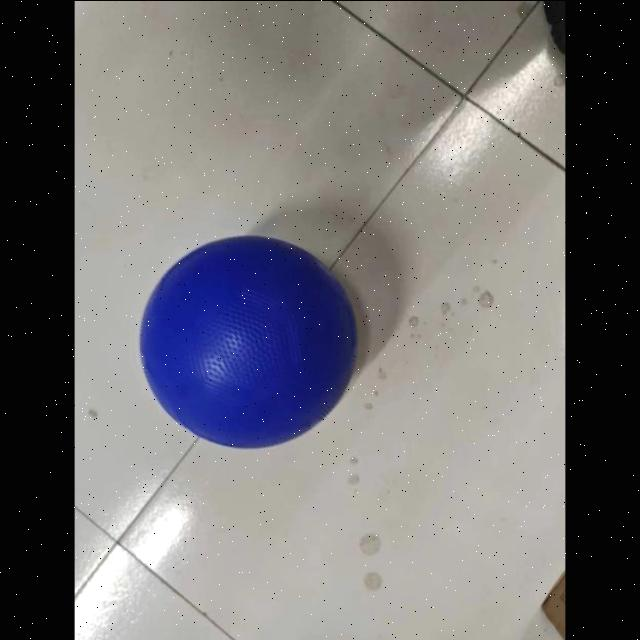B: (136, 234, 358, 456)
